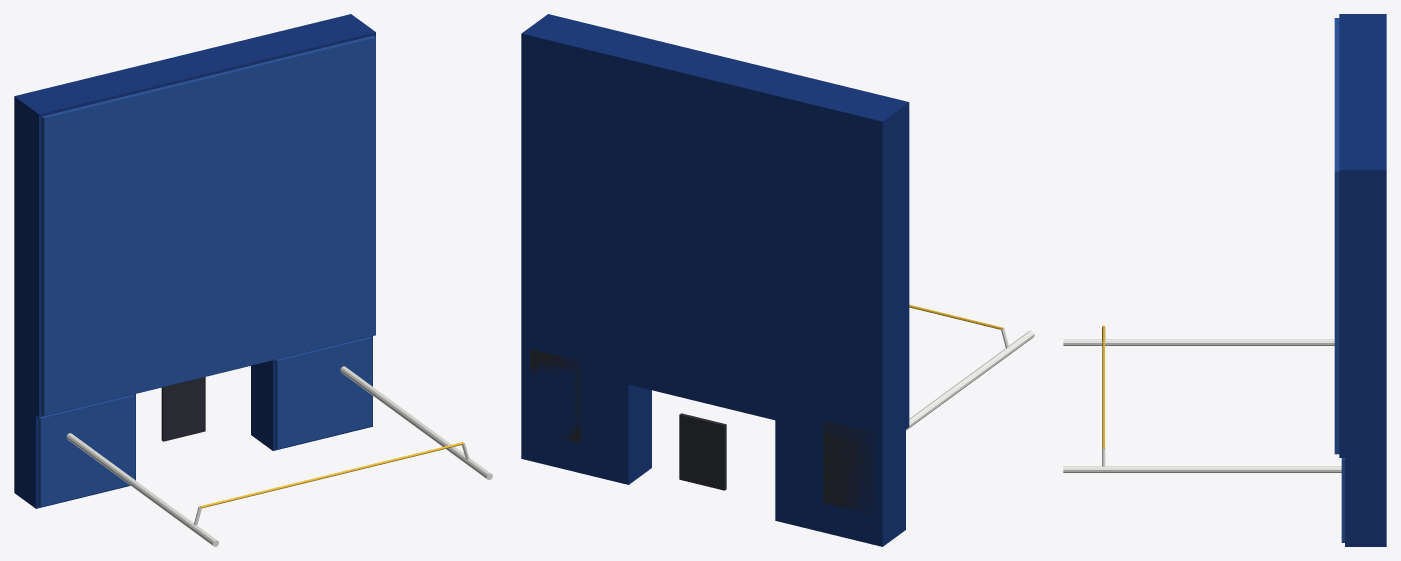
File: perche.glb
The picture shows the model from 3 angles, left to right: view 1: azimuth 30°, elevation 25°; view 2: azimuth 150°, elevation 25°; view 3: azimuth 270°, elevation 25°; orthographic projection. The views are drawn at different scales.
Visible parts, largest first — view 1: housse, tapis, pan_dessus.001, pan_dessus, pan, butoir, pan.001, chandelier, chandelier.001, barre; view 2: tapis, pan.001, pan, base, butoir, base.001, chandelier; view 3: tapis, pan.001, housse, chandelier.001, chandelier.
Part boxes in pixels (box(x1,y1,x2,y2)): housse: box(41, 35, 375, 415); tapis: box(14, 14, 375, 417); pan_dessus.001: box(275, 336, 372, 448); pan_dessus: box(38, 394, 135, 506); pan: box(14, 394, 135, 508); butoir: box(161, 377, 205, 441); pan.001: box(251, 336, 372, 450); chandelier: box(66, 433, 218, 546); chandelier.001: box(340, 366, 492, 480); barre: box(199, 442, 463, 508); tapis: box(521, 14, 909, 446); pan.001: box(521, 358, 651, 484); pan: box(775, 420, 905, 546); base: box(823, 420, 874, 514); butoir: box(679, 413, 726, 490); base.001: box(530, 348, 580, 443); chandelier: box(906, 330, 1034, 430); tapis: box(1339, 14, 1386, 457); pan.001: box(1345, 458, 1386, 546); housse: box(1334, 18, 1339, 454); chandelier.001: box(1063, 466, 1341, 472); chandelier: box(1063, 339, 1334, 345).
Bounding box in the file's own units: 6.4 × 7.2 × 5.6.
